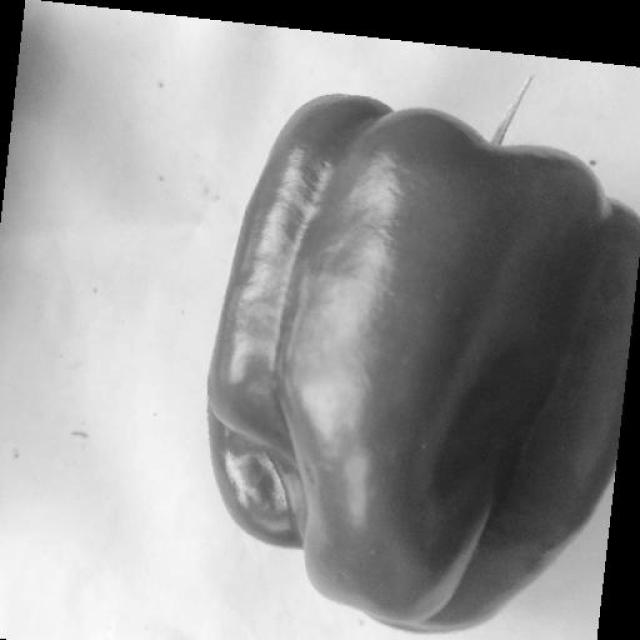Fresh_Capsicum: (212, 63, 612, 592)
